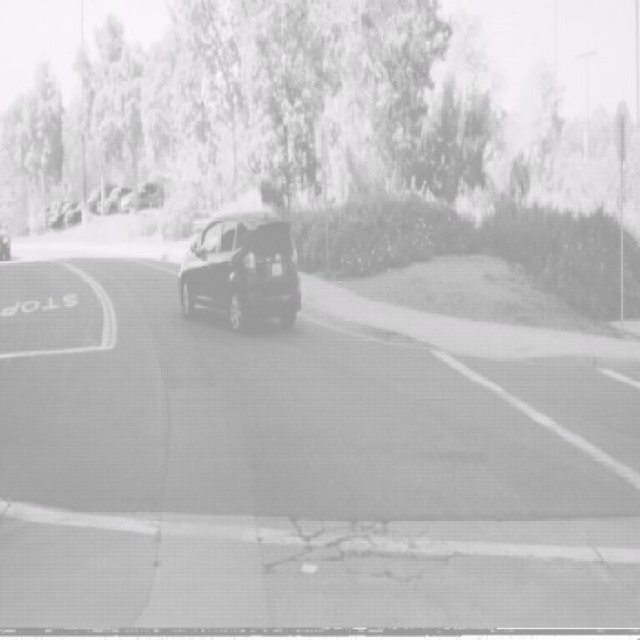pedestrianCrossing: (57, 173, 73, 204)
